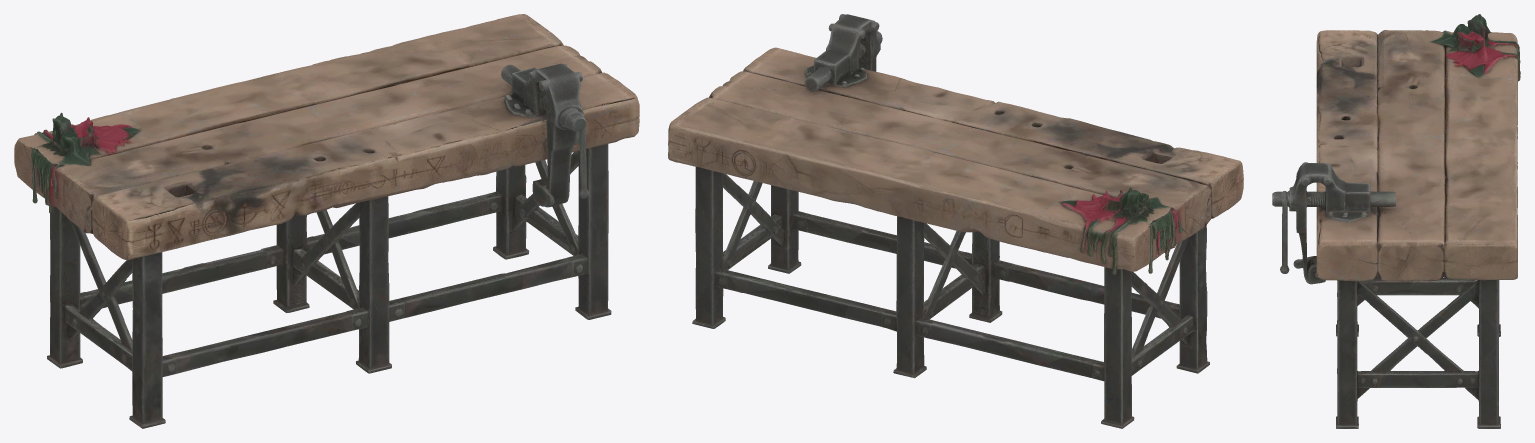
File: desk.glb
3 views of the same model, side by side, from view 1: azimuth 30°, elevation 25°; view 2: azimuth 150°, elevation 25°; view 3: azimuth 270°, elevation 25° (orthographic). The views are drawn at different scales.
Visible parts, largest first — view 1: Mesh_0; view 2: Mesh_0; view 3: Mesh_0.
Part boxes in pixels (left/top/right/bottom): Mesh_0: left=14, top=14, right=639, bottom=428; Mesh_0: left=668, top=14, right=1243, bottom=428; Mesh_0: left=1272, top=14, right=1520, bottom=428.
Size of the model in its own units: 1.9 by 0.9511 by 0.9228.
1 material, 1 textured.
